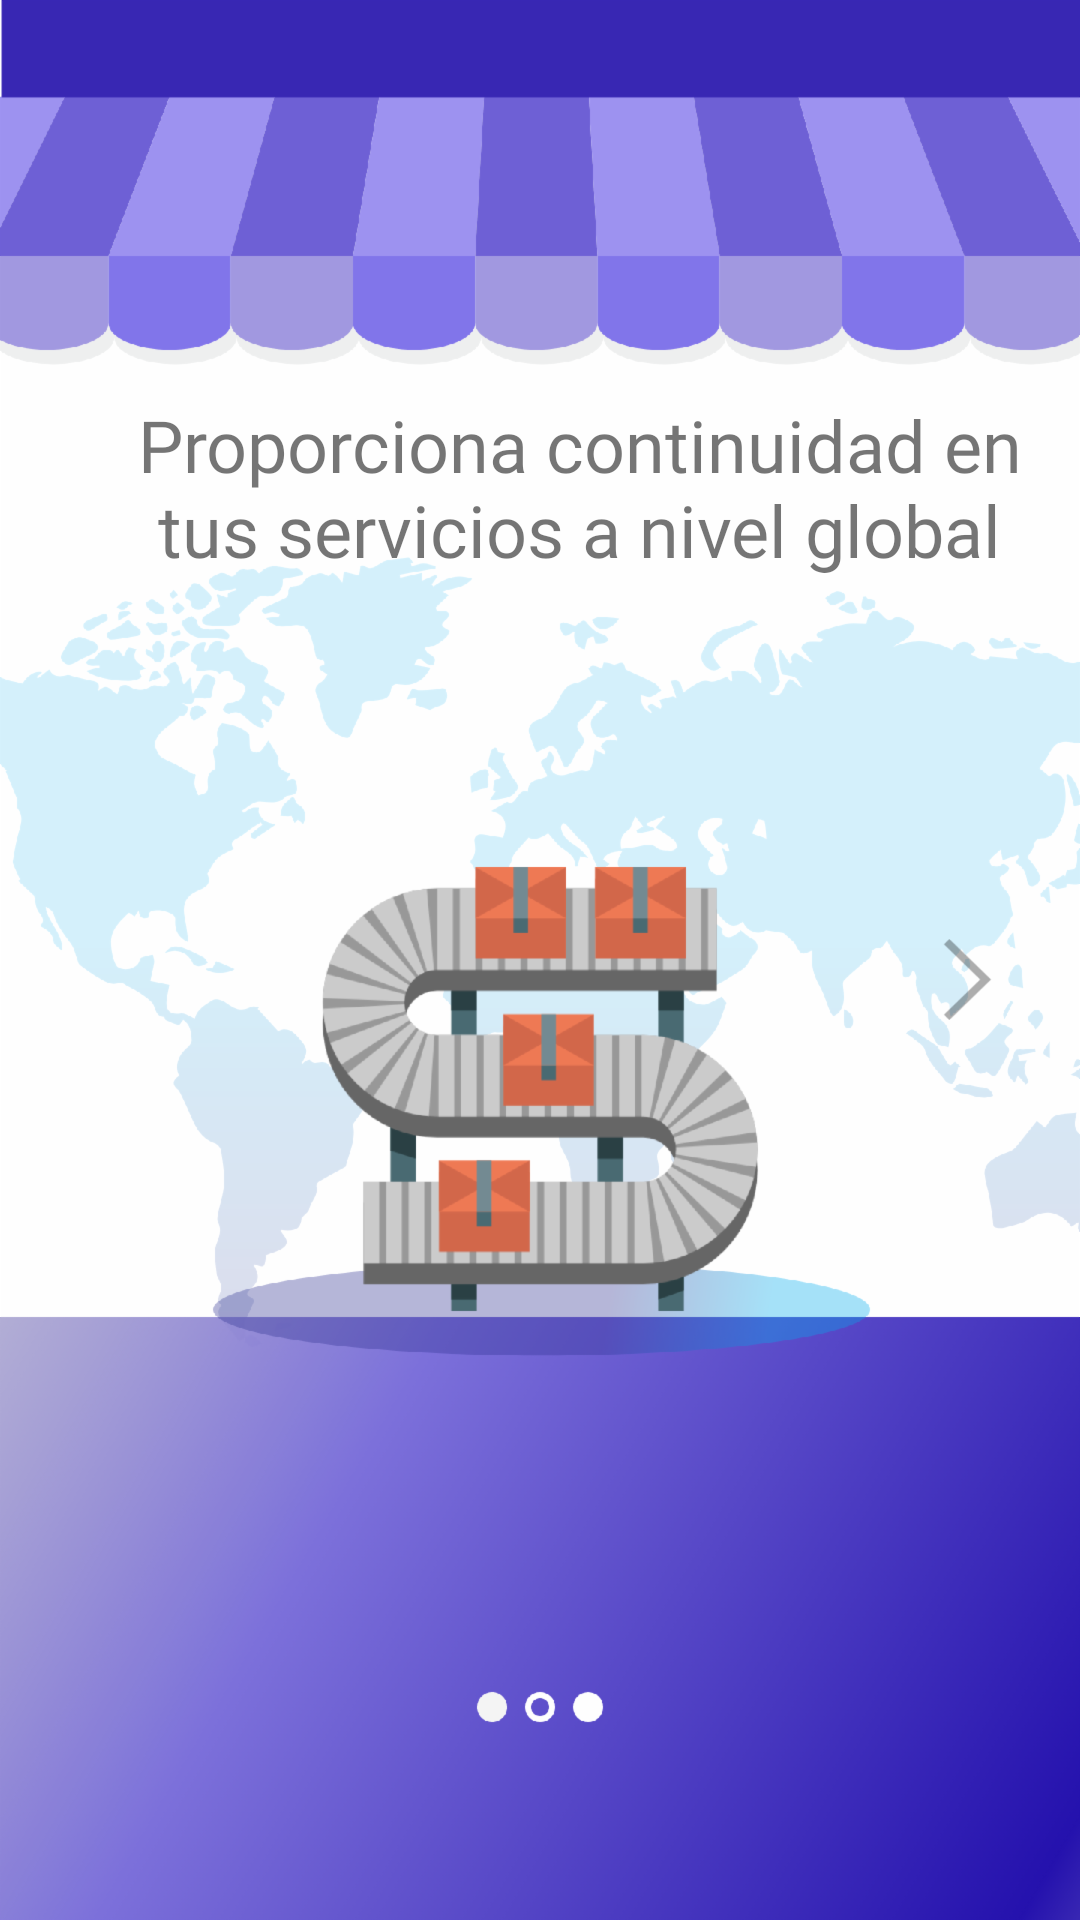

Icon click points for this 1080×1920 phone screenshot, format point (x, y):
nextpage: point (967, 979)
